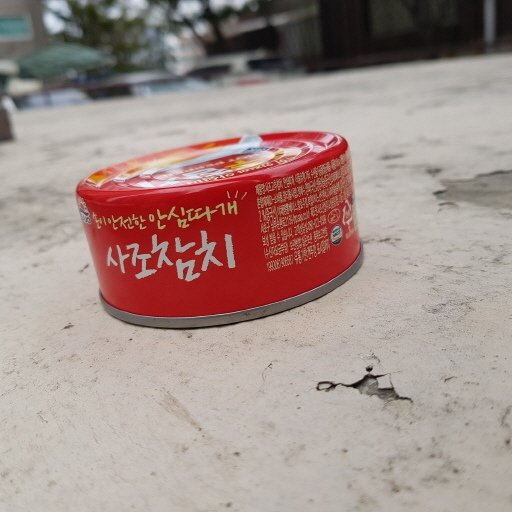Metal_1: (73, 128, 366, 329)
